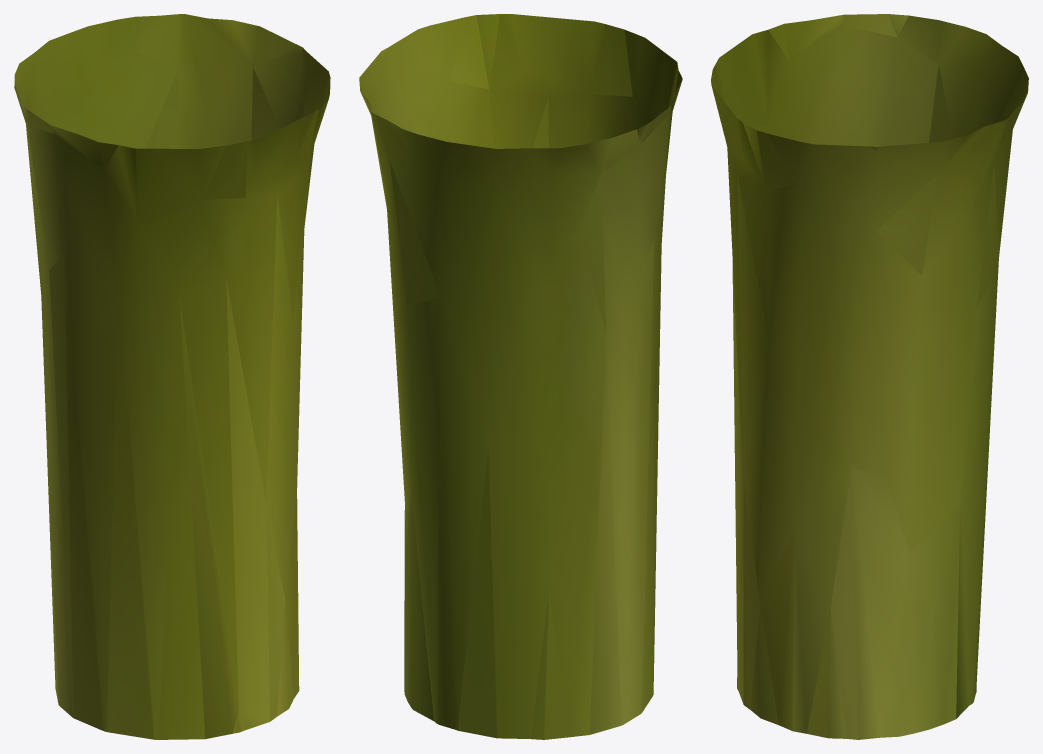
File: clivia-stem-0.glb
3 views of the same model, side by side, from view 1: azimuth 30°, elevation 25°; view 2: azimuth 150°, elevation 25°; view 3: azimuth 270°, elevation 25° (orthographic).
Visible parts, largest first — view 1: StemSample_0; view 2: StemSample_0; view 3: StemSample_0.
Boxes of the visible parts, box(x1,y1,x2,y2) form: StemSample_0: box(14, 14, 330, 739); StemSample_0: box(359, 14, 682, 739); StemSample_0: box(711, 14, 1028, 739).
Bounding box in the file's own units: 0.0564 × 0.12 × 0.057.
Materials: 1 (1 with a texture image).
